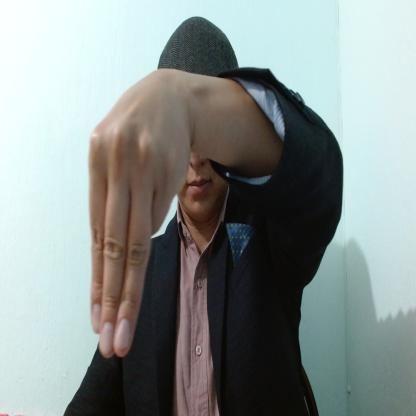M: (89, 69, 188, 354)
